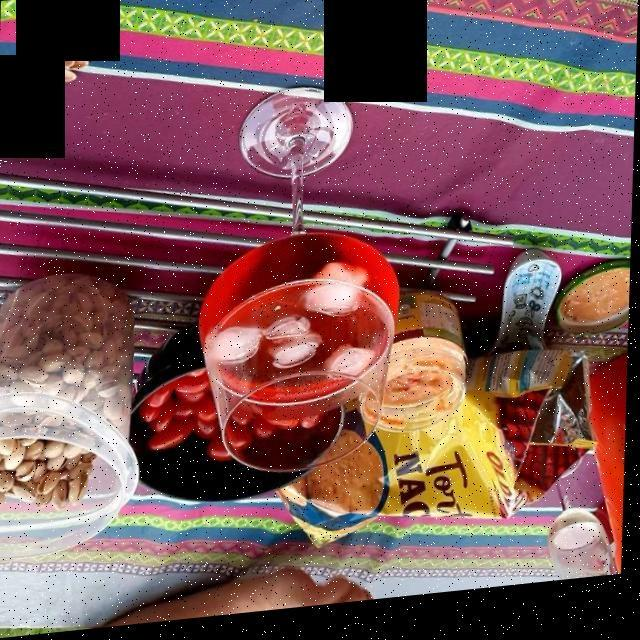aperol-spritz: (200, 240, 400, 414)
pistachio: (0, 283, 129, 507)
tomato: (138, 391, 312, 461)
